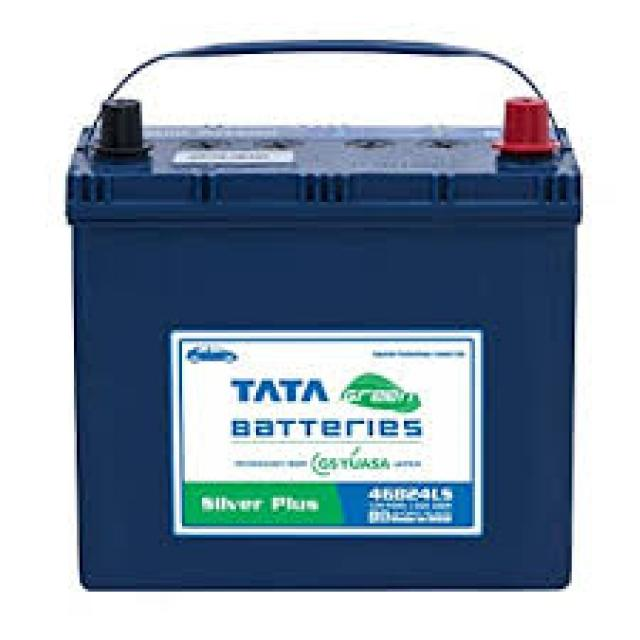non-organic waste: (64, 39, 584, 589)
